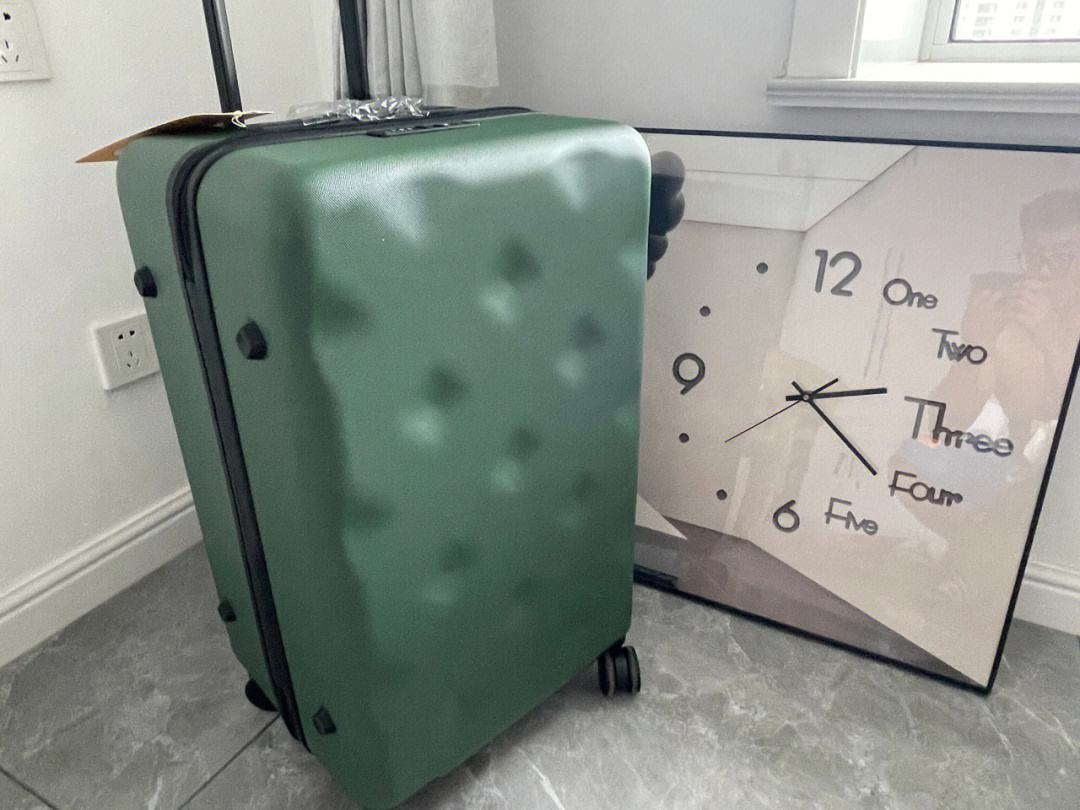box: (116, 108, 653, 810)
wheel: (598, 644, 642, 699)
